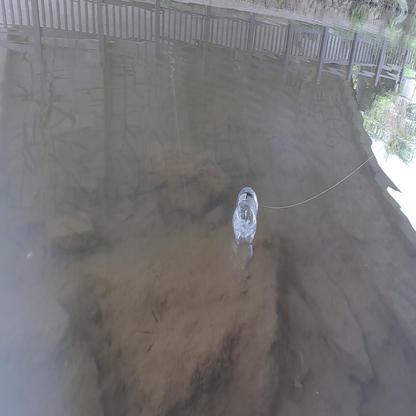plastic bottle: (233, 186, 259, 242)
